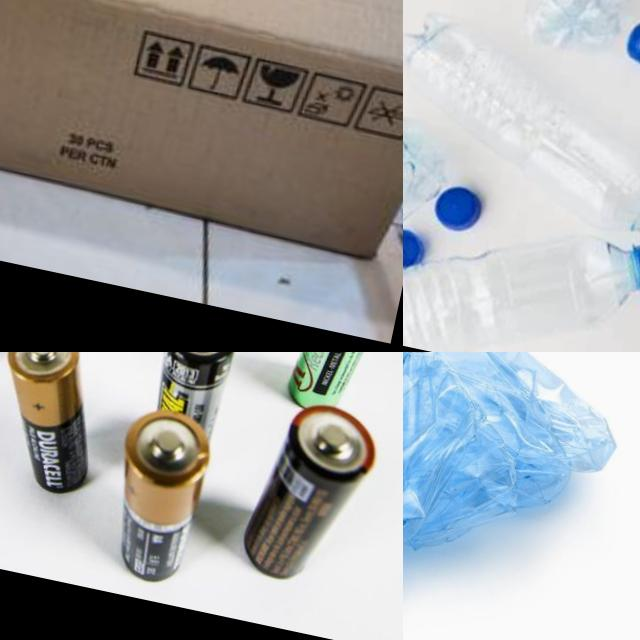bateria: (238, 396, 382, 596), (98, 403, 216, 587), (0, 352, 115, 497), (146, 352, 244, 447), (285, 352, 403, 422)
garrafa plástica: (403, 5, 640, 255), (403, 171, 640, 352), (403, 352, 633, 479), (403, 352, 494, 578), (518, 0, 636, 59), (403, 105, 456, 235)
papelão: (0, 0, 403, 268)
tampa plástica: (430, 184, 484, 234), (403, 223, 427, 275), (622, 15, 640, 66)
